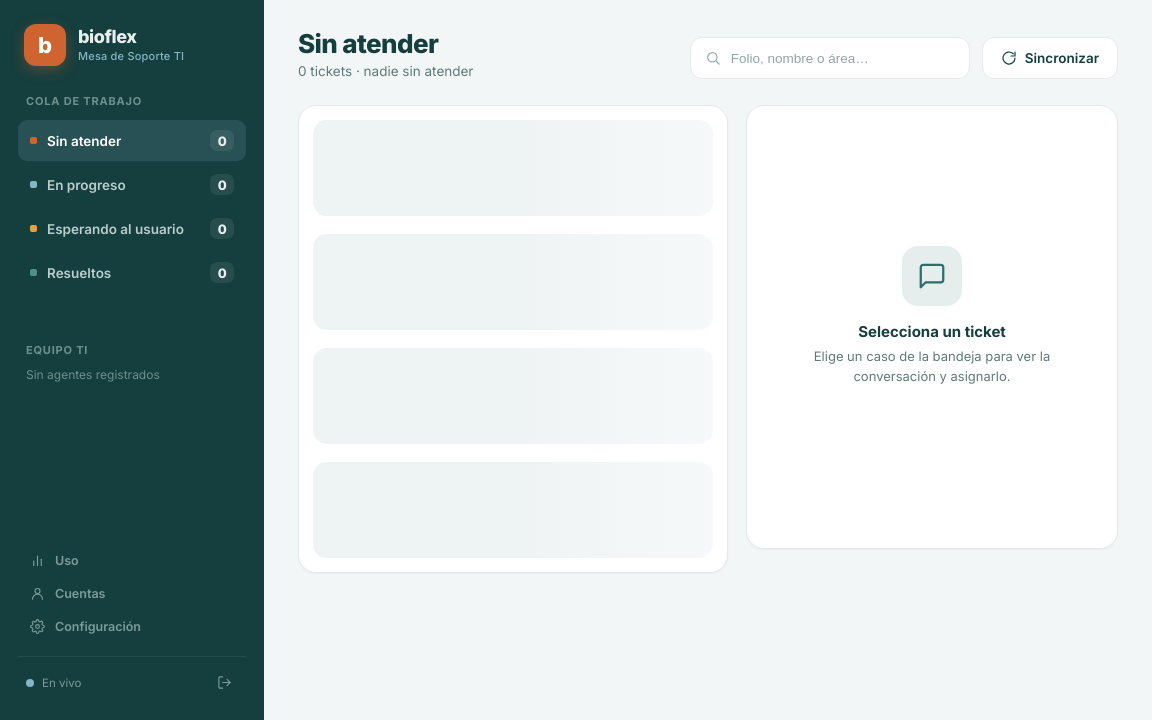
Scenario: un admin no puede desactivarse a sí mismo
The width and height of the screenshot is (1152, 720).
Click the button "Cuentas".
click(132, 594)  # box [18, 578, 246, 609]
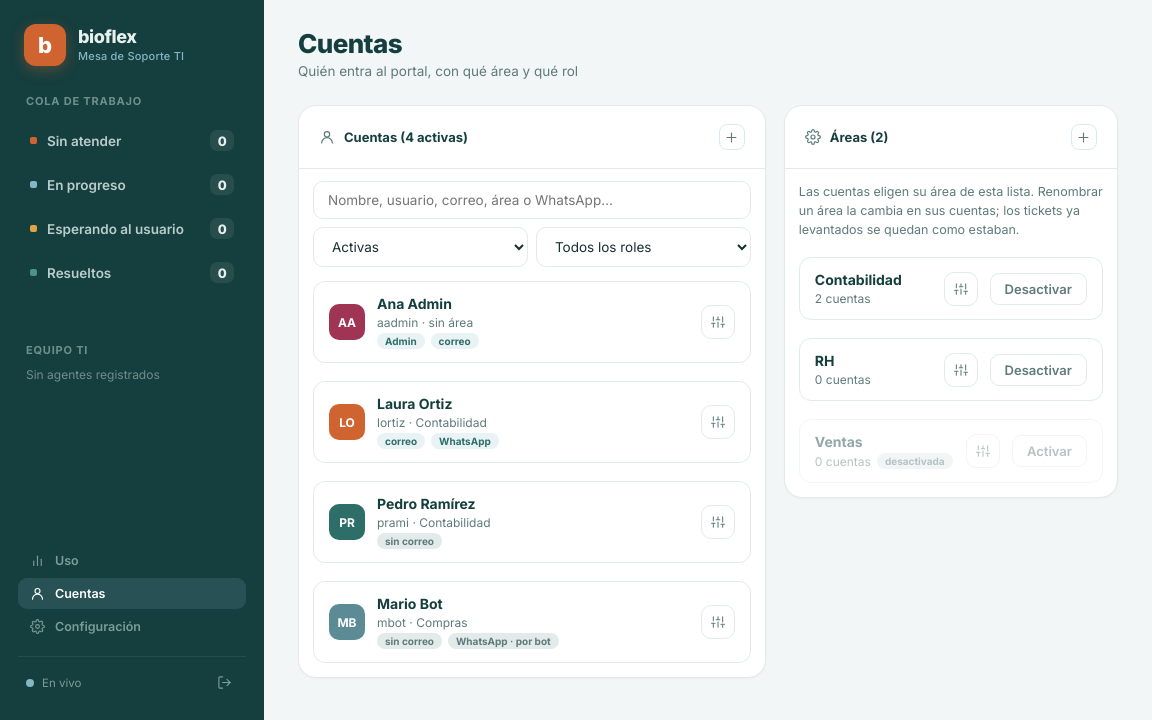
Expected: the element with class "bf-cfg-row" that starts with "Laura Ortiz" is shown, [313, 381, 751, 463]
Click the button named "Editar Ana Admin".
click(718, 322)  # box [701, 305, 735, 339]
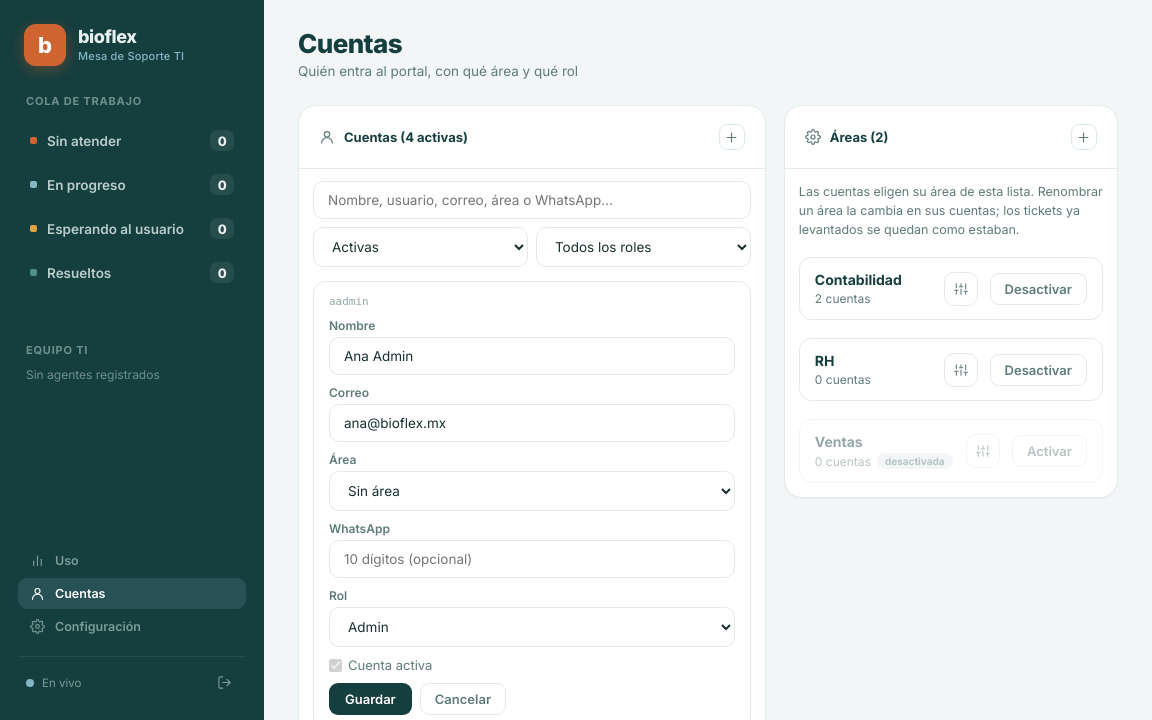
Expected: the checkbox labelled "Cuenta activa" is disabled, [329, 658, 342, 672]
